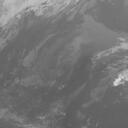cyclone: (37, 35, 100, 95)
